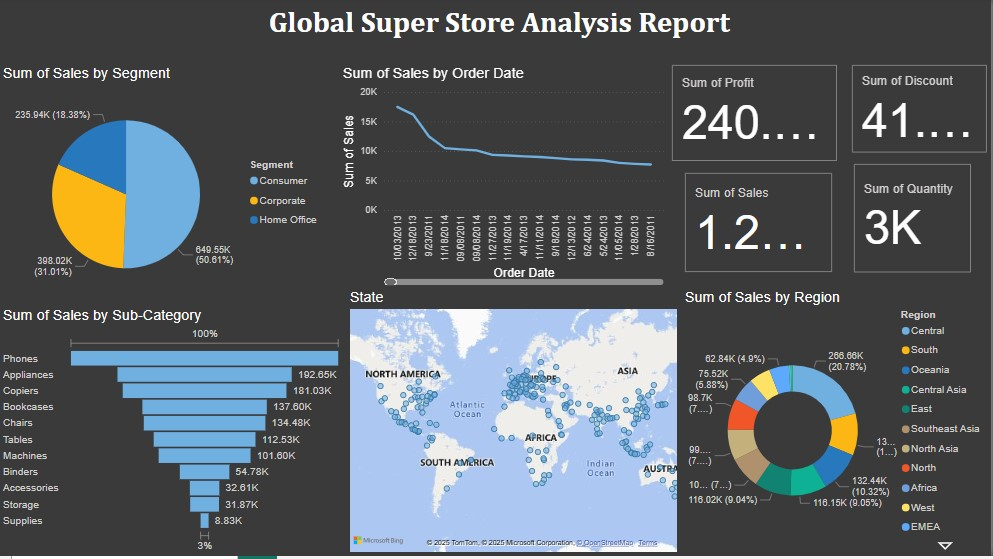

What the dashboard file says about the page in this screenshot:
{"tool":"powerbi","page":{"name":"Global Superstore Analysis Report","canvas":[1280,720],"ordinal":0},"visuals":[{"type":"donutChart","fields":{"Category":["Global-Superstore.Region"],"Y":["Sum(Global-Superstore.Sales)"]},"box":[879.7,375.7,400.6,344.3],"z":0},{"type":"funnel","fields":{"Category":["Global-Superstore.Sub-Category"],"Y":["Sum(Global-Superstore.Sales)"]},"box":[0,399.3,447.7,320.7],"z":1000},{"type":"map","fields":{"Category":["Global-Superstore.State"]},"box":[447.7,375.7,432,344.3],"z":2000},{"type":"pieChart","fields":{"Category":["Global-Superstore.Segment"],"Y":["Sum(Global-Superstore.Sales)"]},"box":[0,86.4,424.1,312.9],"z":3000},{"type":"lineChart","fields":{"Category":["Global-Superstore.Order Date"],"Y":["Sum(Global-Superstore.Sales)"]},"box":[438.5,86.4,424.1,289.3],"z":4000},{"type":"cardVisual","fields":{"Data":["Sum(Global-Superstore.Sales)"]},"box":[879.7,221.2,200.3,138.8],"z":5000},{"type":"cardVisual","fields":{"Data":["Sum(Global-Superstore.Profit)"]},"box":[862.7,81.2,223.9,134.8],"z":6000},{"type":"cardVisual","fields":{"Data":["Sum(Global-Superstore.Discount)"]},"box":[1095.7,81.2,184.6,123.1],"z":7000},{"type":"cardVisual","fields":{"Data":["Sum(Global-Superstore.Quantity)"]},"box":[1098.3,209.5,161,150.5],"z":8000},{"type":"textbox","box":[282.2,4.3,725.8,76.3],"z":9000}]}

Visuals, with their boxes in screenshot pixels (x1, y1, x2, y2), scaled from the page's 1280x720 canvas onto the 993x559 screenshot:
donutChart - Global-Superstore.Region x Sum(Global-Superstore.Sales): region(682, 292, 992, 558)
funnel - Global-Superstore.Sub-Category x Sum(Global-Superstore.Sales): region(0, 310, 347, 558)
map - Global-Superstore.State: region(347, 292, 682, 558)
pieChart - Global-Superstore.Segment x Sum(Global-Superstore.Sales): region(0, 67, 329, 310)
lineChart - Global-Superstore.Order Date x Sum(Global-Superstore.Sales): region(340, 67, 669, 292)
cardVisual - Sum(Global-Superstore.Sales): region(682, 172, 838, 280)
cardVisual - Sum(Global-Superstore.Profit): region(669, 63, 843, 168)
cardVisual - Sum(Global-Superstore.Discount): region(850, 63, 992, 159)
cardVisual - Sum(Global-Superstore.Quantity): region(852, 163, 977, 280)
textbox: region(219, 3, 782, 63)
